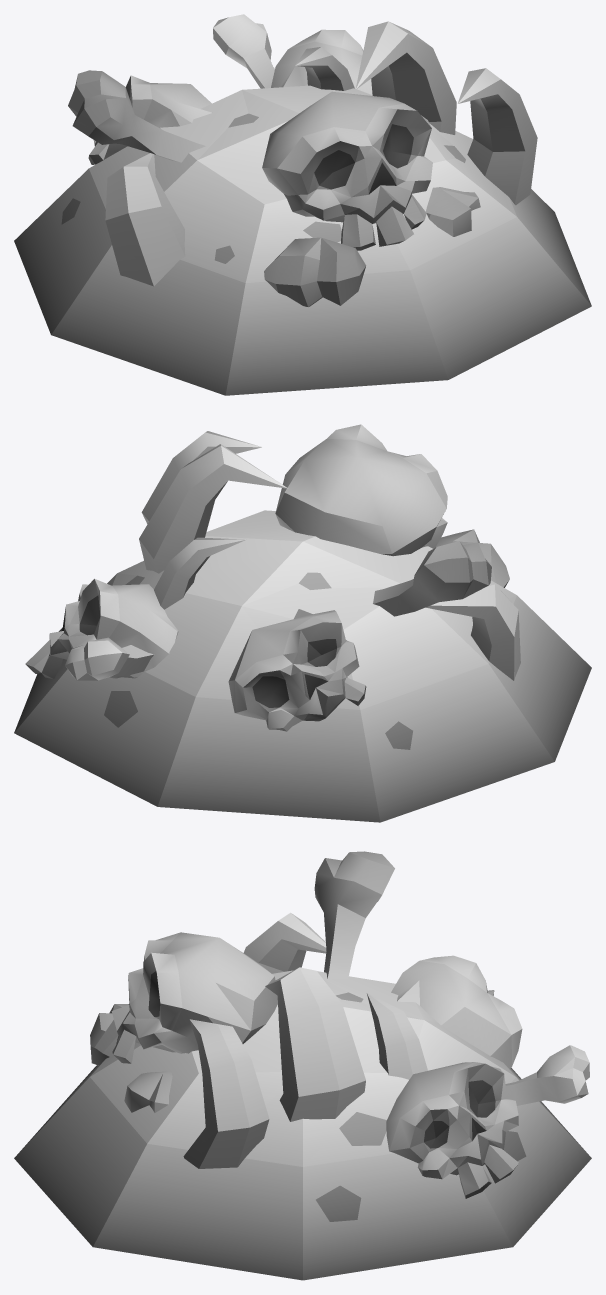
Rendered from bones_group.glb.
The picture shows the model from 3 angles, top to bottom: view 1: azimuth 30°, elevation 25°; view 2: azimuth 150°, elevation 25°; view 3: azimuth 270°, elevation 25°; orthographic projection.
Visible parts, largest first — view 1: bones_group; view 2: bones_group; view 3: bones_group.
Boxes of the visible parts, left/top/right/bottom form: bones_group: left=14, top=14, right=591, bottom=395; bones_group: left=14, top=424, right=591, bottom=822; bones_group: left=14, top=851, right=591, bottom=1280.
Size of the model in its own units: 2.19 by 1.01 by 2.19.
1 material, 1 textured.
